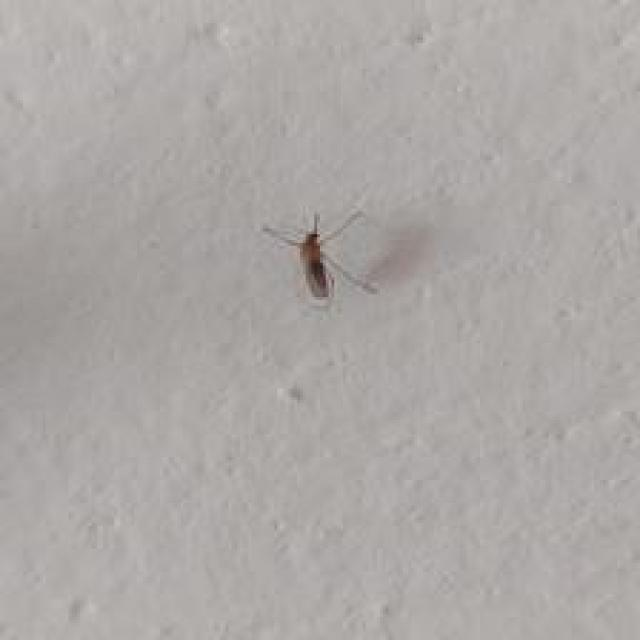Culex: (260, 206, 380, 303)
